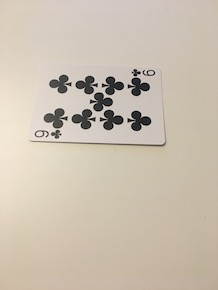NineOfClubs: (25, 55, 168, 152)
